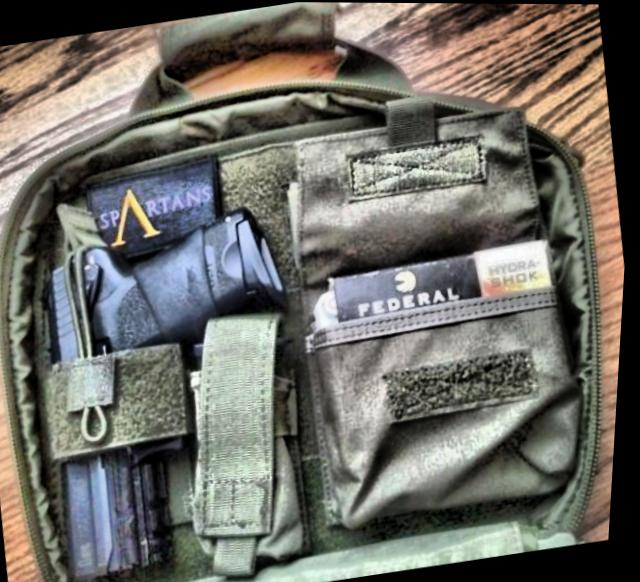pistol: (17, 201, 329, 582)
